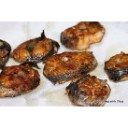seerfish: (47, 50, 97, 80), (64, 75, 111, 106), (60, 20, 106, 48), (1, 66, 39, 96), (13, 38, 59, 61), (106, 53, 128, 80)
